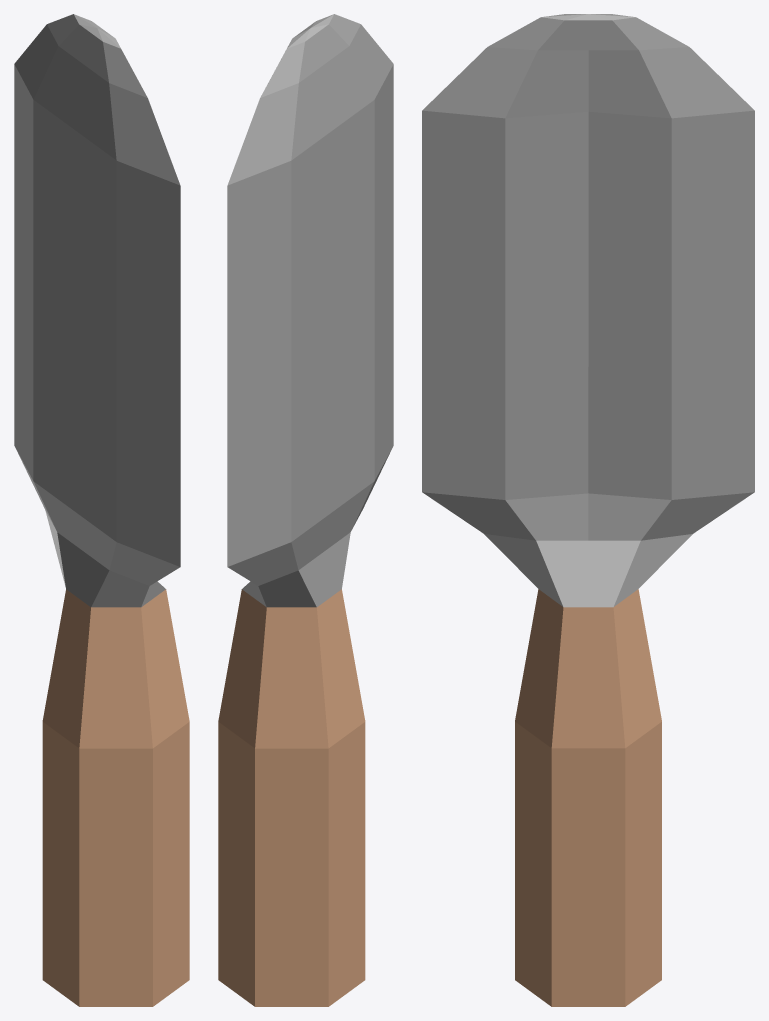
File: shovel.fbx
The picture shows the model from 3 angles, left to right: view 1: azimuth 30°, elevation 25°; view 2: azimuth 150°, elevation 25°; view 3: azimuth 270°, elevation 25°; orthographic projection.
Parts seen in each view (by area): view 1: Circle; view 2: Circle; view 3: Circle.
Part boxes in pixels (x1,y1,x2,y2): Circle: [14, 14, 189, 1006]; Circle: [218, 14, 393, 1006]; Circle: [422, 14, 754, 1006].
Size of the model in its own units: 173 by 1467 by 452.
